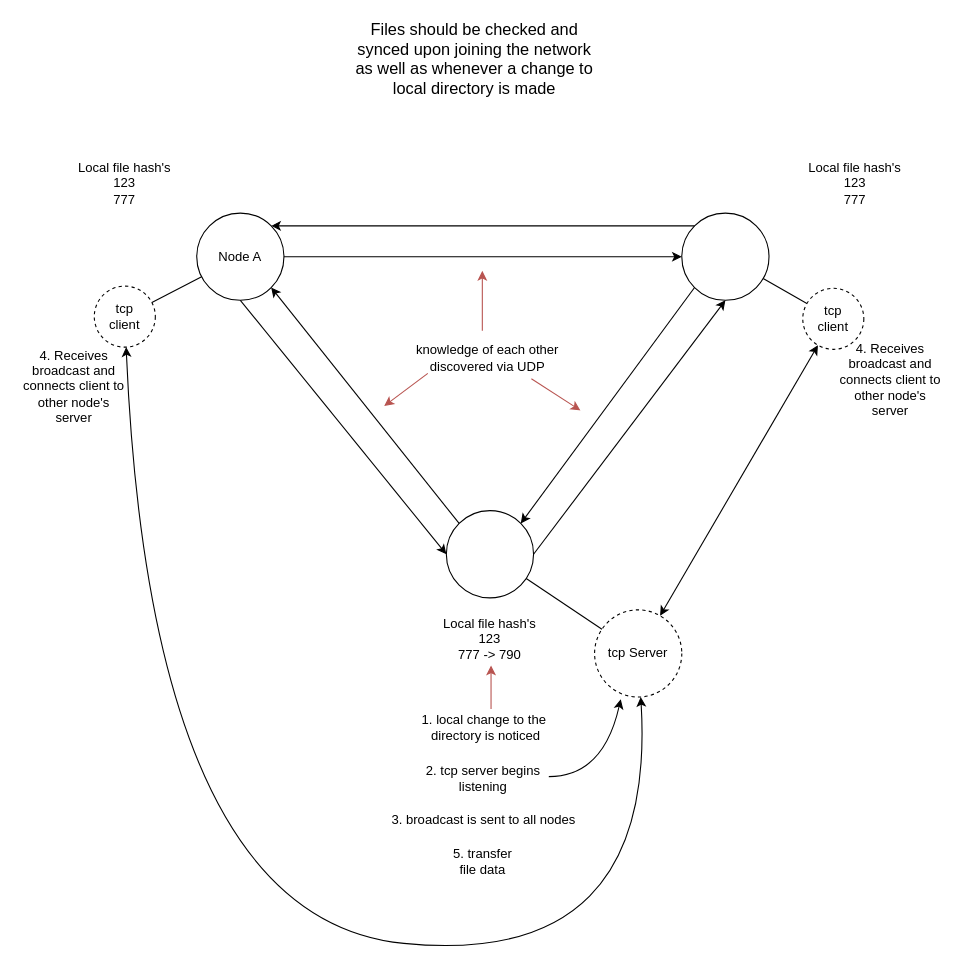
Some shapes in this 964 by 965 pixel diagram are drawn without their labels. The centre of each missing label's shape, as x and y in pixels:
"Node B" belongs at (725,256).
"Node C" belongs at (489,554).
